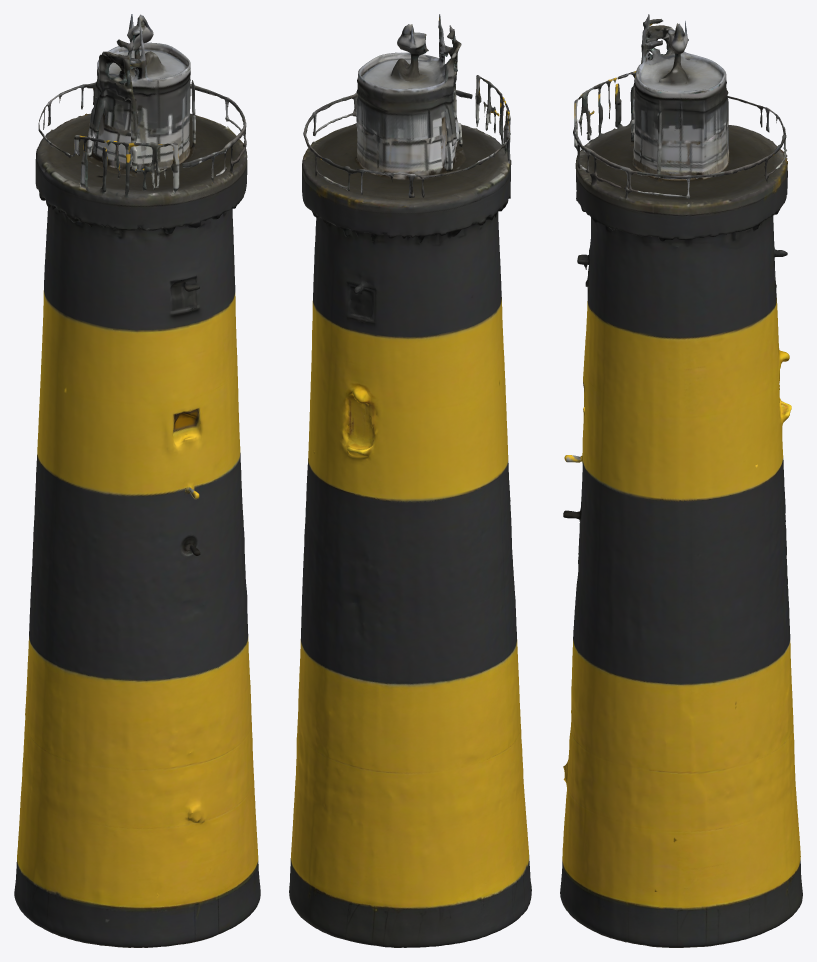
The model's file is Striped_Lighthouse_0730150010_texture.fbx.
The picture shows the model from 3 angles, left to right: view 1: azimuth 30°, elevation 25°; view 2: azimuth 150°, elevation 25°; view 3: azimuth 270°, elevation 25°; orthographic projection.
Visible parts, largest first — view 1: input; view 2: input; view 3: input.
Part boxes in pixels (x1,y1,x2,y2): input: (14,14,260,947); input: (289,14,531,947); input: (560,14,802,947).
Size of the model in its own units: 50.17 by 200 by 50.05.
1 material, 1 textured.
